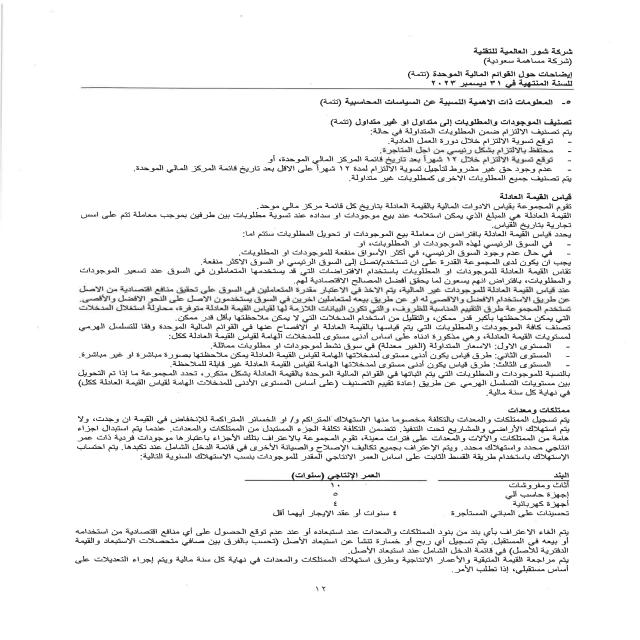notes: (398, 67, 579, 81)
text: (14, 93, 590, 592)
